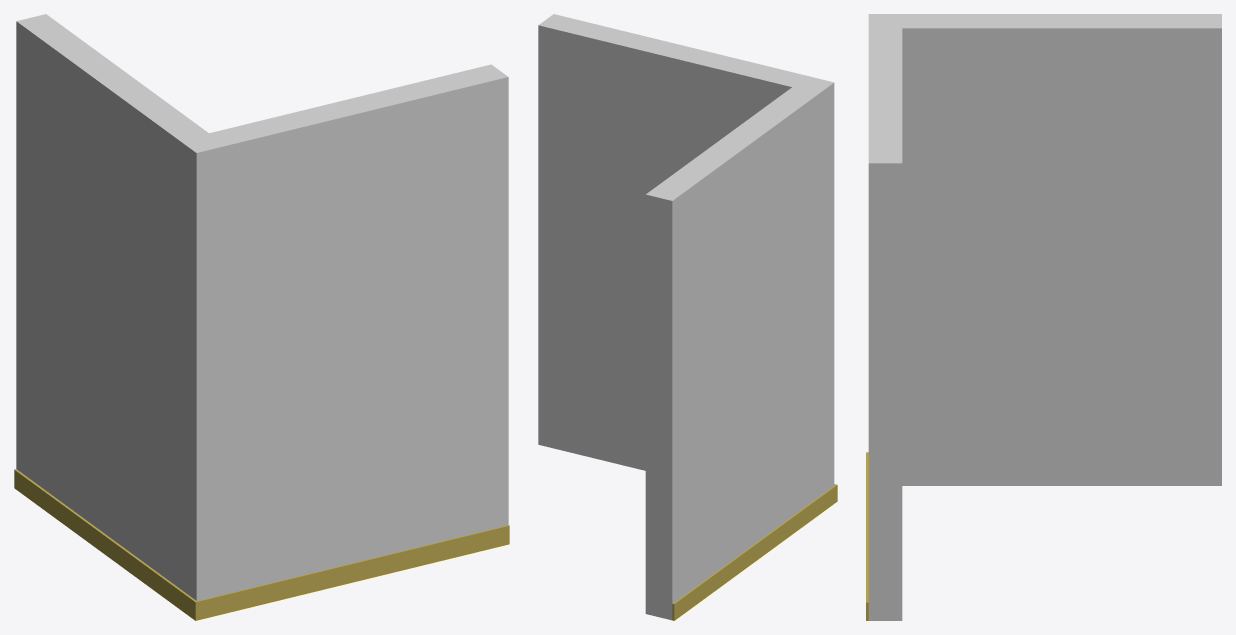
The model's file is MOD_05_Wall_OuterCorner.fbx.
3 views of the same model, side by side, from view 1: azimuth 30°, elevation 25°; view 2: azimuth 150°, elevation 25°; view 3: azimuth 270°, elevation 25° (orthographic). The views are drawn at different scales.
Visible parts, largest first — view 1: MOD_05_Wall_OuterCorner; view 2: MOD_05_Wall_OuterCorner; view 3: MOD_05_Wall_OuterCorner.
Boxes of the visible parts, bbox=[...] form: MOD_05_Wall_OuterCorner: bbox=[14, 14, 509, 620]; MOD_05_Wall_OuterCorner: bbox=[538, 14, 837, 620]; MOD_05_Wall_OuterCorner: bbox=[866, 14, 1221, 620].
Bounding box in the file's own units: 2.12 × 3 × 2.12.
